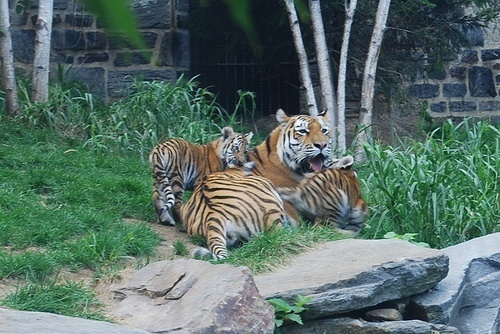tigre: (180, 107, 334, 262), (150, 126, 251, 219)
